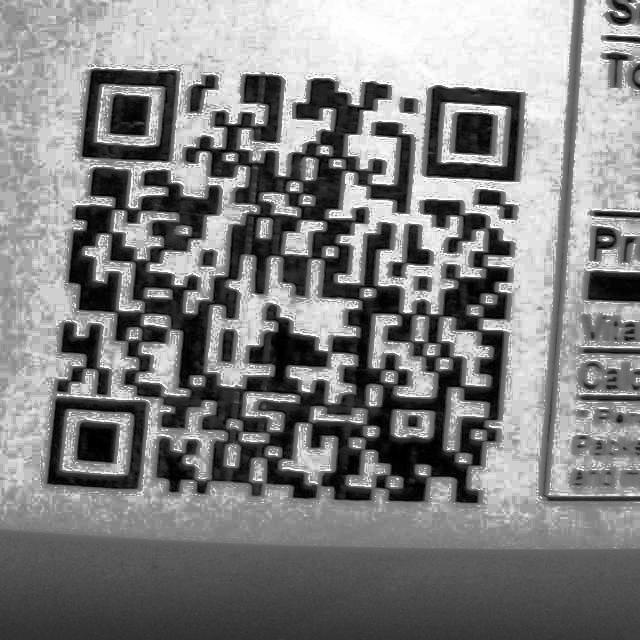qr_code: (31, 40, 541, 521)
